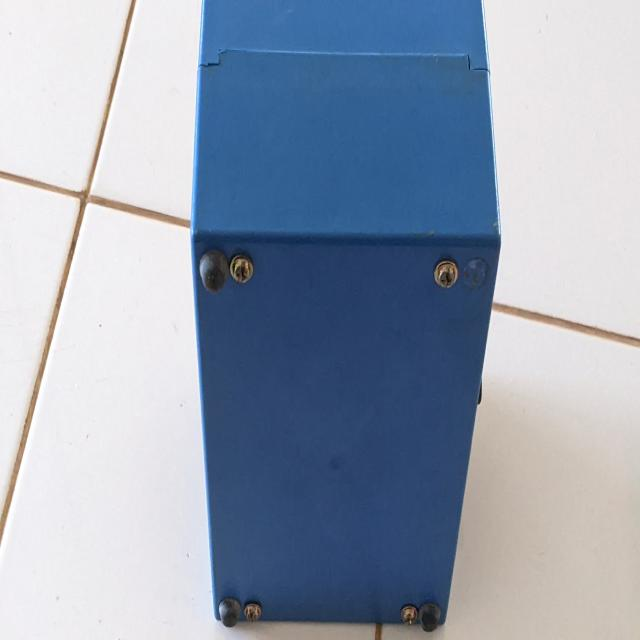Low Voltage AC-DC Power Supply 12 V: (185, 34, 510, 631)
